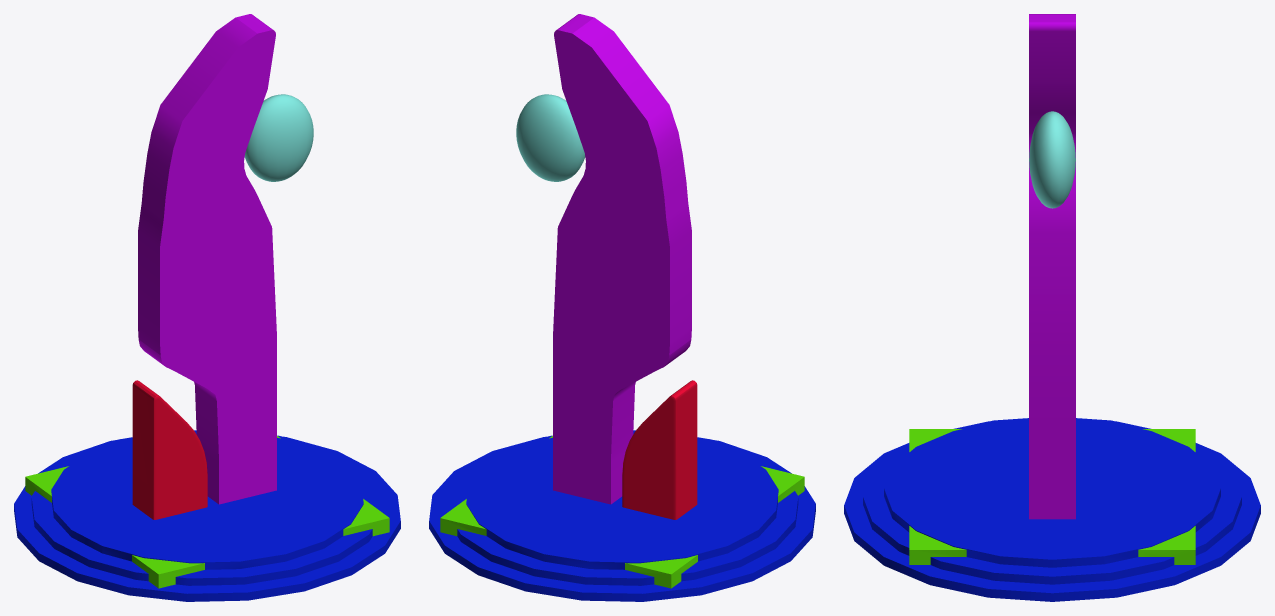
File: Obelisk2.fbx
The picture shows the model from 3 angles, left to right: view 1: azimuth 30°, elevation 25°; view 2: azimuth 150°, elevation 25°; view 3: azimuth 270°, elevation 25°; orthographic projection. The views are drawn at different scales.
Parts seen in each view (by area): view 1: pCylinder118; view 2: pCylinder118; view 3: pCylinder118.
Part boxes in pixels (x1,y1,x2,y2): pCylinder118: (14,14,400,601); pCylinder118: (429,14,815,601); pCylinder118: (844,14,1260,601).
Size of the model in its own units: 413 by 569 by 413.
